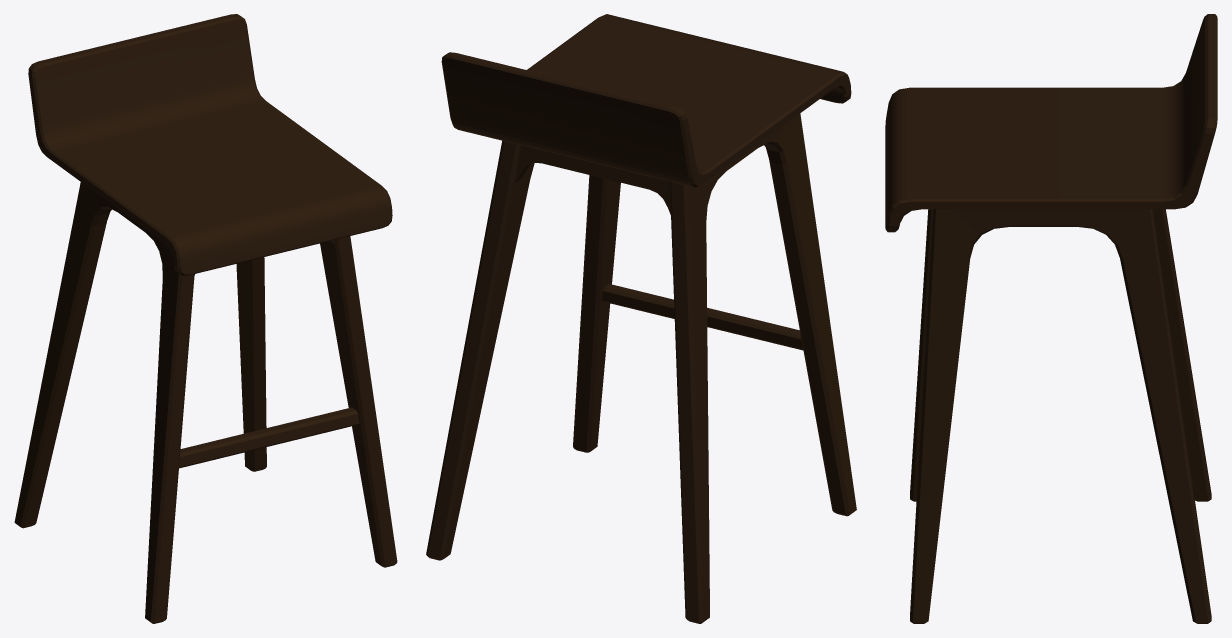
Rendered from h-005_stool_01_F.FBX.
3 views of the same model, side by side, from view 1: azimuth 30°, elevation 25°; view 2: azimuth 150°, elevation 25°; view 3: azimuth 270°, elevation 25° (orthographic). The views are drawn at different scales.
Visible parts, largest first — view 1: h-005_stool_01; view 2: h-005_stool_01; view 3: h-005_stool_01.
Boxes of the visible parts, x1,y1,x2,y2 form: h-005_stool_01: [14, 14, 397, 623]; h-005_stool_01: [426, 14, 856, 623]; h-005_stool_01: [885, 14, 1217, 623].
Bounding box in the file's own units: 5.51 × 9.7 × 5.92.
